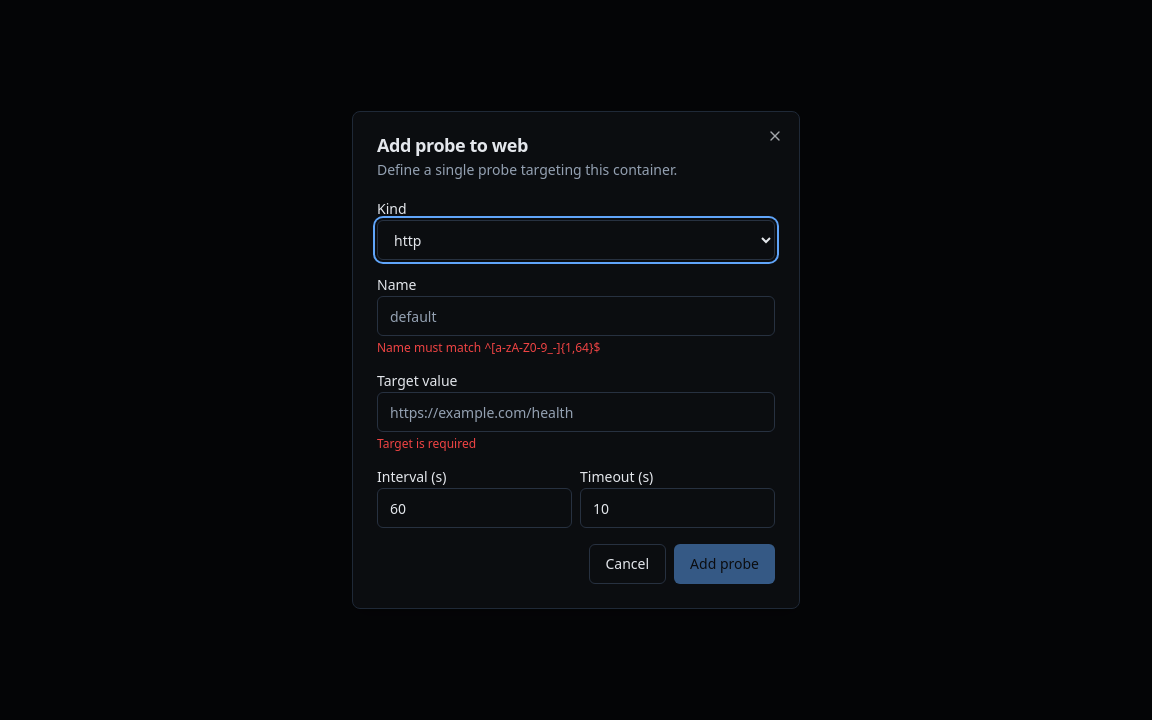
it: AddProbeModal › shows timeout validation error when timeout is out of range
In the field with test id "add-probe-name": (576, 316) x1=377 y1=296 x2=775 y2=336, type "healthz"
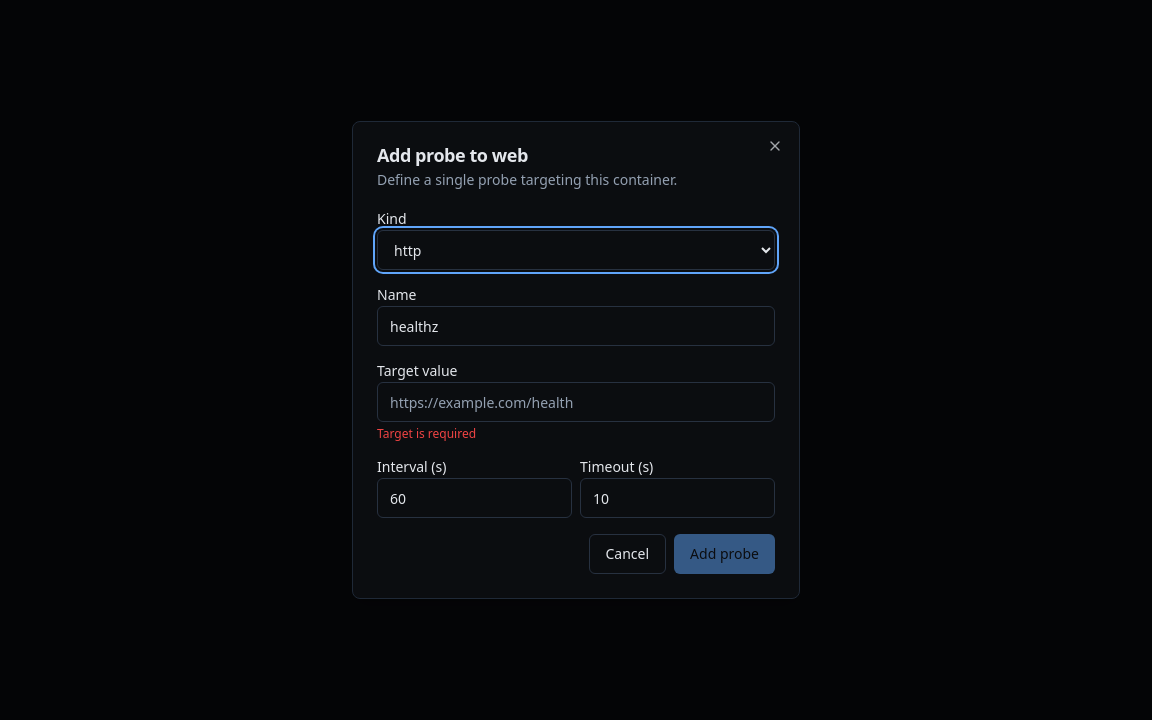
In the field with test id "add-probe-target": (576, 402) x1=377 y1=382 x2=775 y2=422, type "http://localhost"
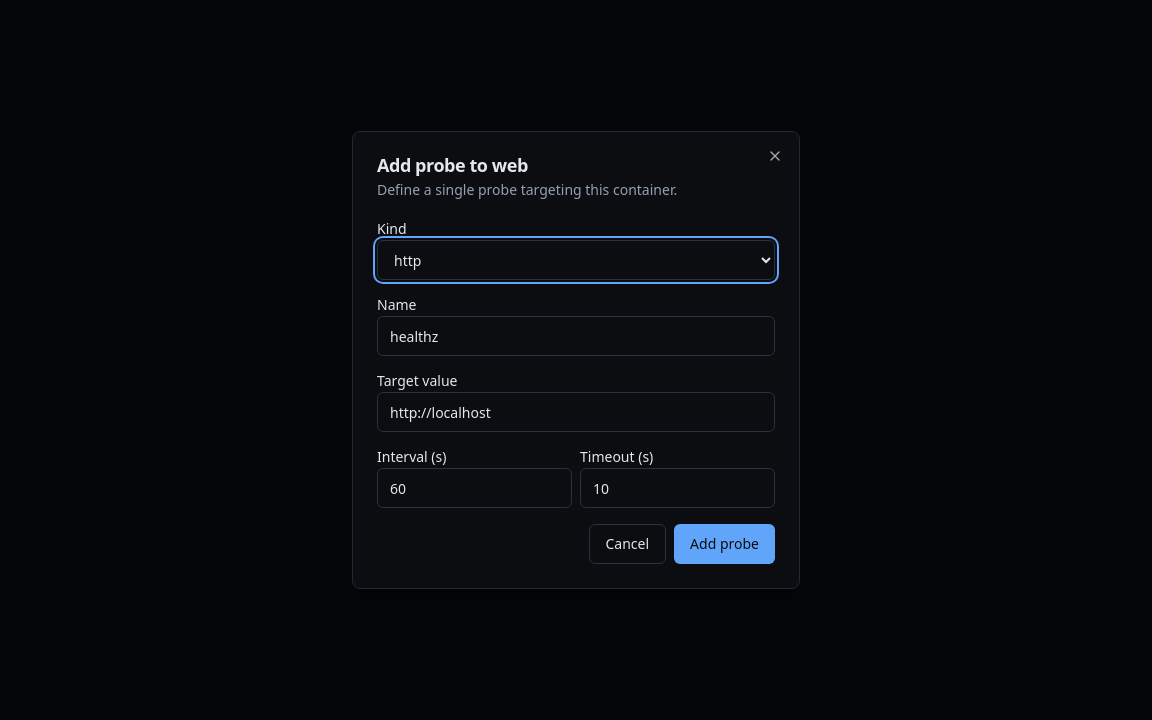
Replace the text in the number field with test id "add-probe-timeout" with "9999": (678, 488) x1=580 y1=468 x2=775 y2=508
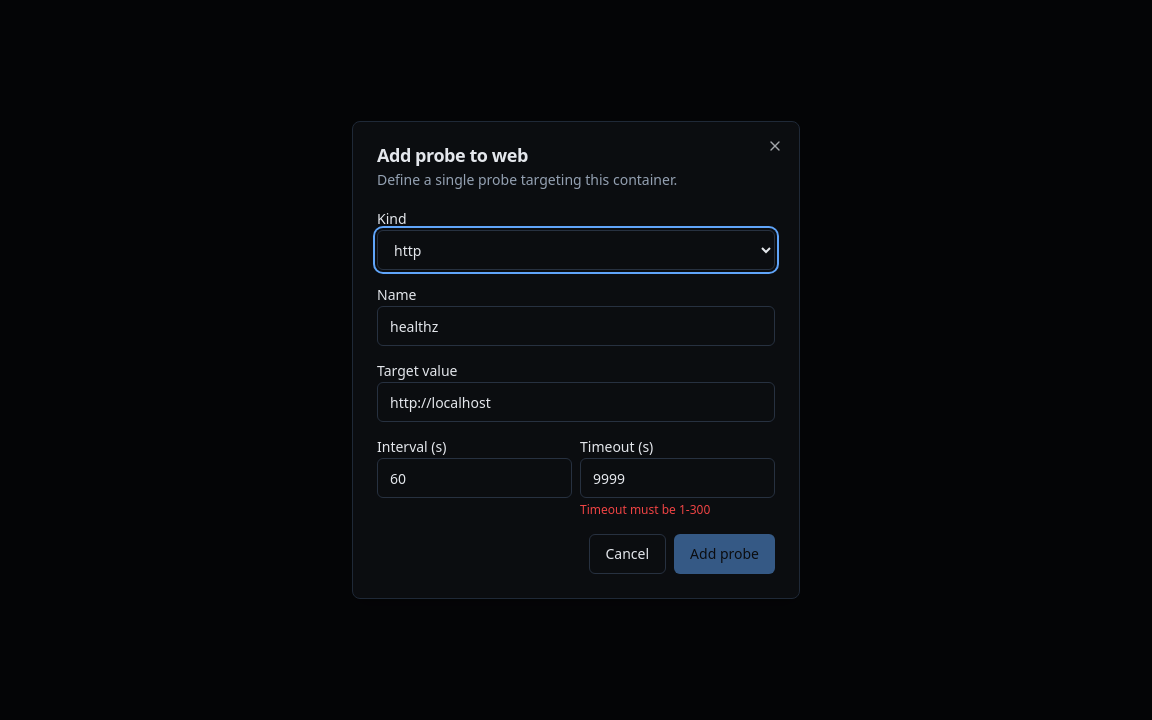
Check: the text "Timeout must be 1-300" is shown, box x1=580 y1=501 x2=710 y2=518
Check: the button with test id "add-probe-submit" is disabled, box x1=674 y1=534 x2=775 y2=574
